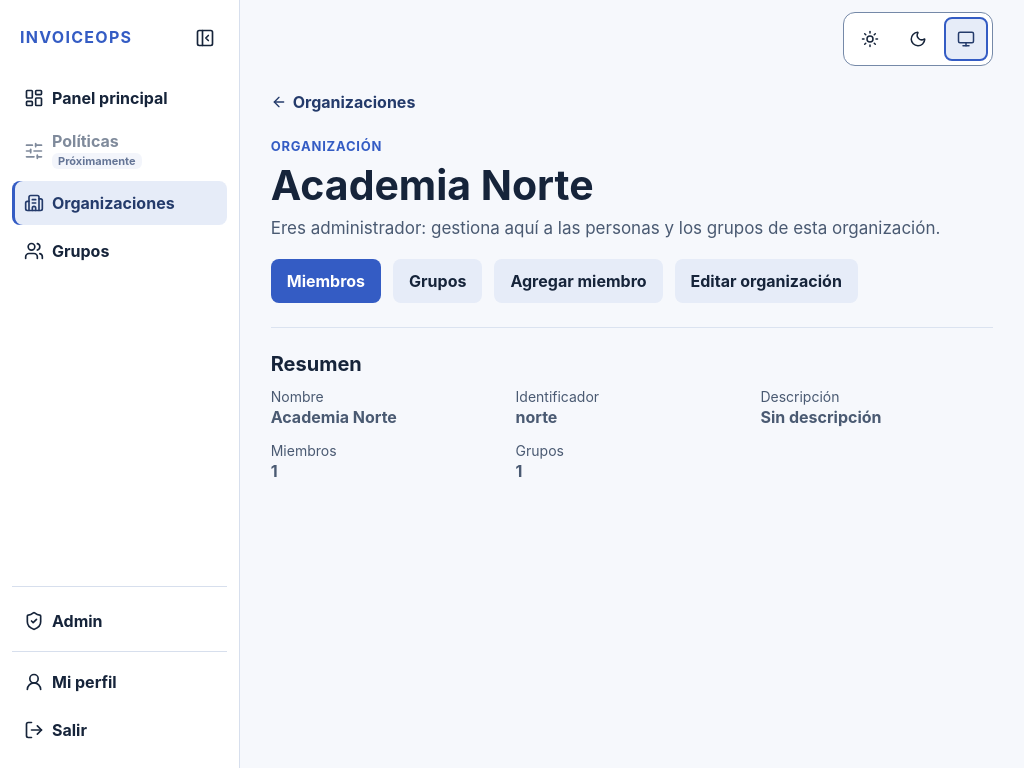
Test case: leaving the session › a voluntary logout goes to the panel URL, clears the partition and does not claim an expired session
Expected: the heading "Academia Norte" is shown, [271, 160, 594, 210]
Click the button "Salir" at (120,730), box [12, 708, 227, 752]
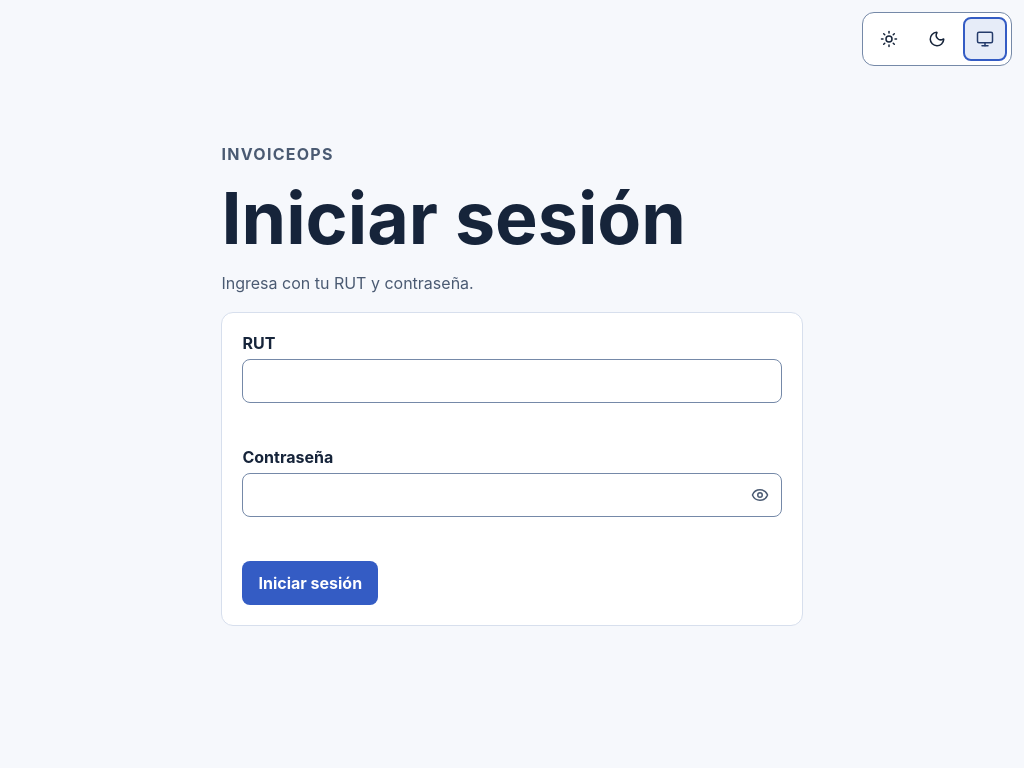
Result: the heading "Iniciar sesión" is shown at [221, 175, 686, 261]
Result: the text "Ingresa con tu RUT y contraseña." is shown at [221, 273, 474, 293]
Type "111111111" into the field labelled "RUT" at (512,381), box [242, 359, 782, 403]
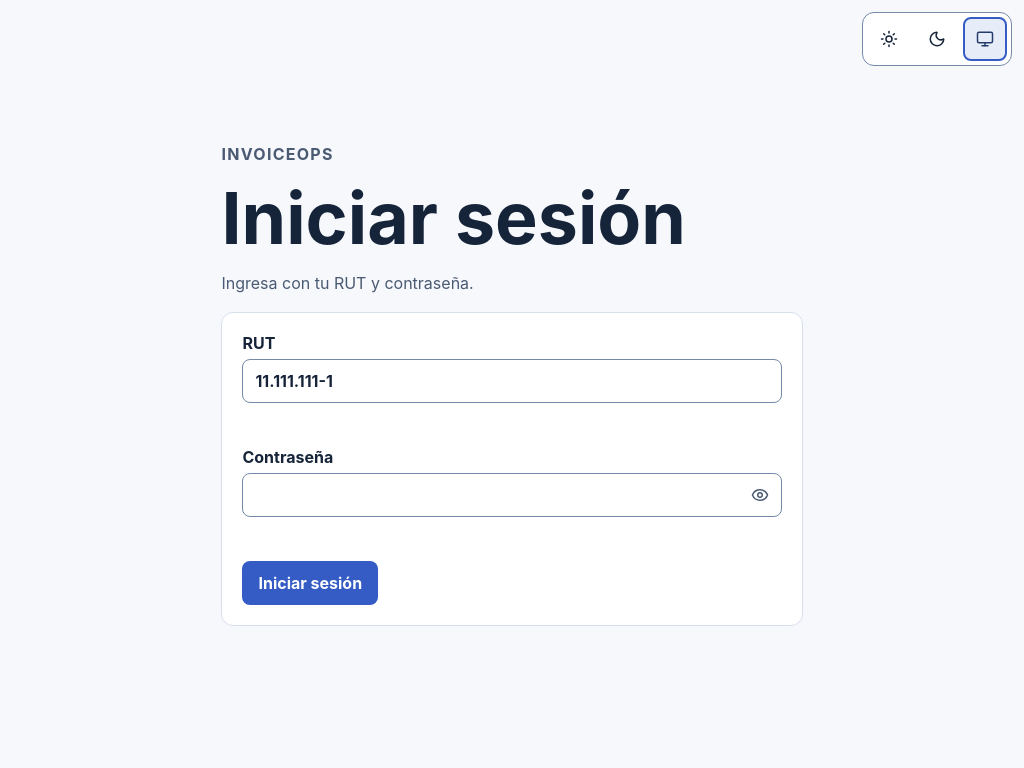
Type "test-password-123" into the password field labelled "Contraseña" at (512,495), box [242, 473, 782, 517]
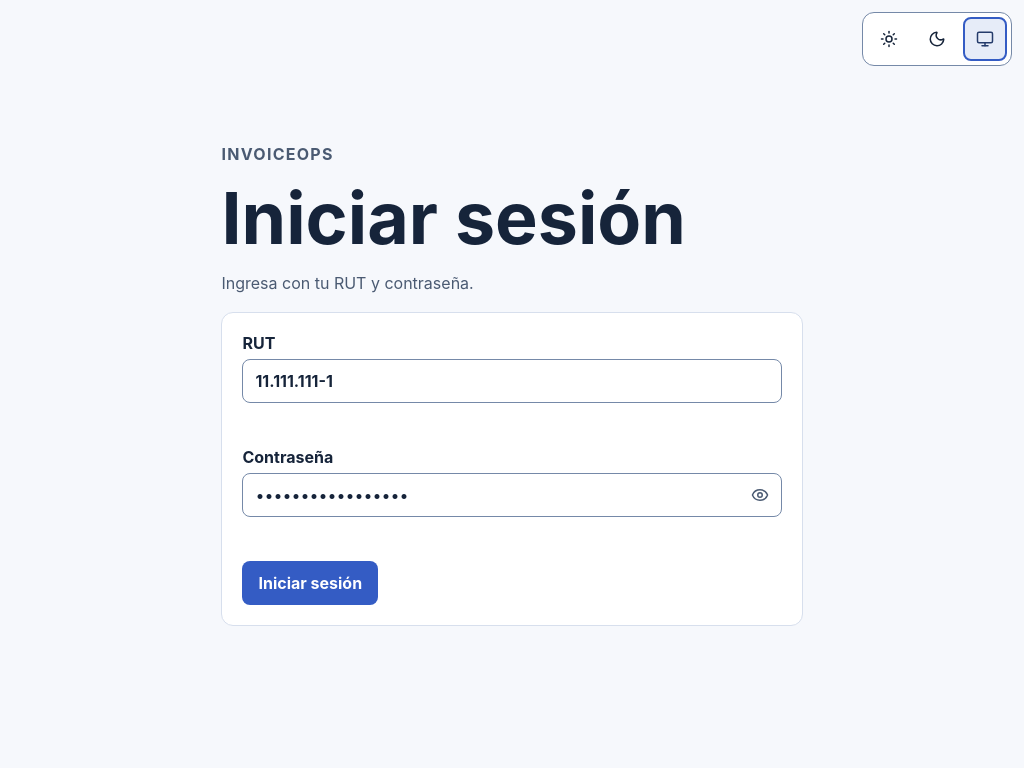
Click the button "Iniciar sesión" at (310,583), box [242, 561, 378, 605]
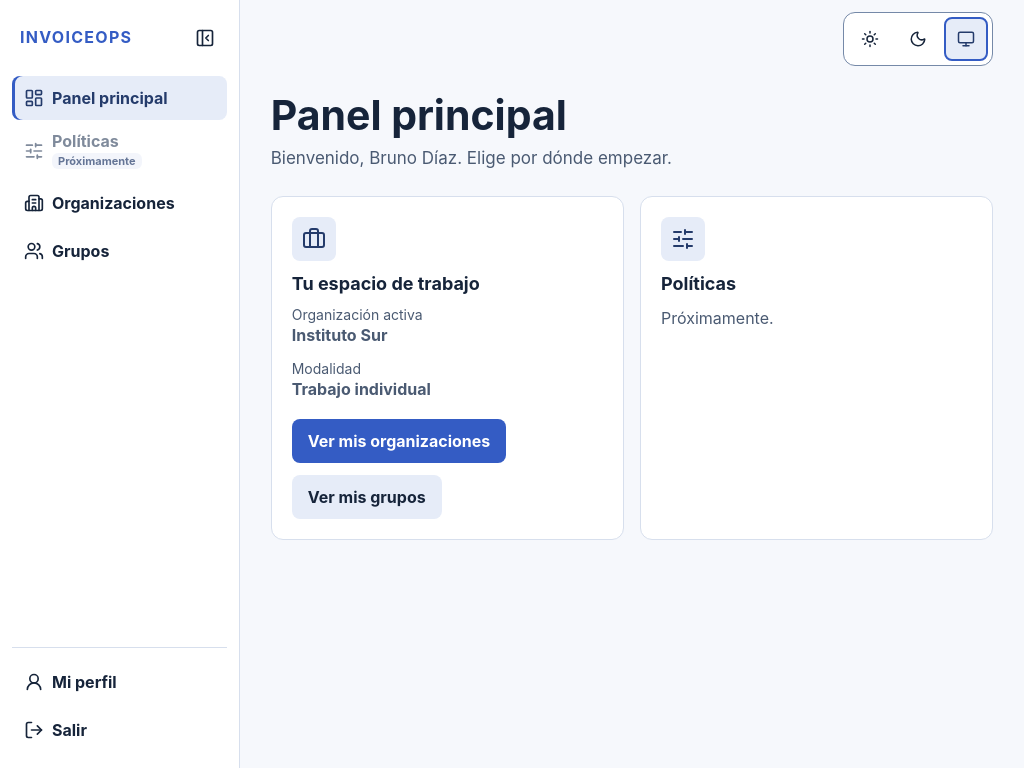
Expected: the heading "Academia Norte" is not shown
Result: the heading "Panel principal" is shown at [271, 90, 567, 140]
